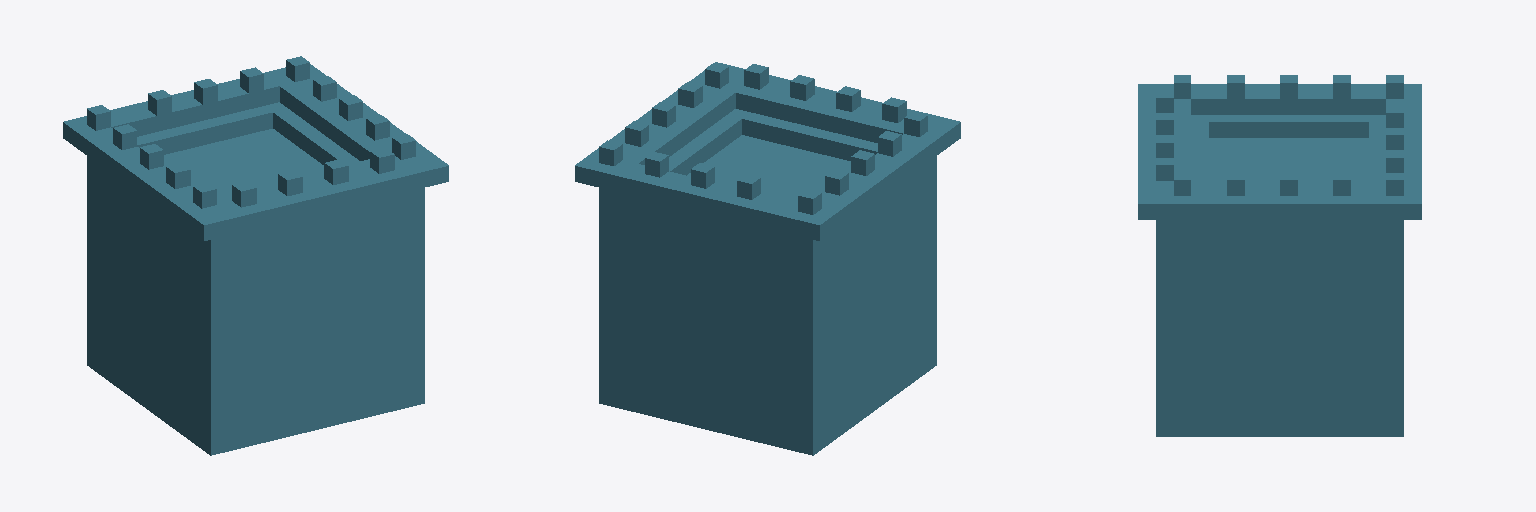
3 views of the same model, side by side, from view 1: azimuth 30°, elevation 25°; view 2: azimuth 150°, elevation 25°; view 3: azimuth 270°, elevation 25° (orthographic).
Visible parts, largest first — view 1: object 1; view 2: object 1; view 3: object 1.
Part boxes in pixels (bbox=[...]): object 1: bbox=[63, 56, 448, 455]; object 1: bbox=[575, 62, 960, 455]; object 1: bbox=[1138, 75, 1421, 436].
Bounding box in the file's own units: 1.6 × 1.6 × 1.6.
Materials: 1 (1 with a texture image).